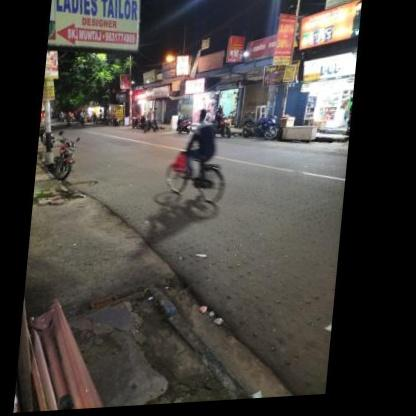Bicycle: (151, 144, 232, 219)
